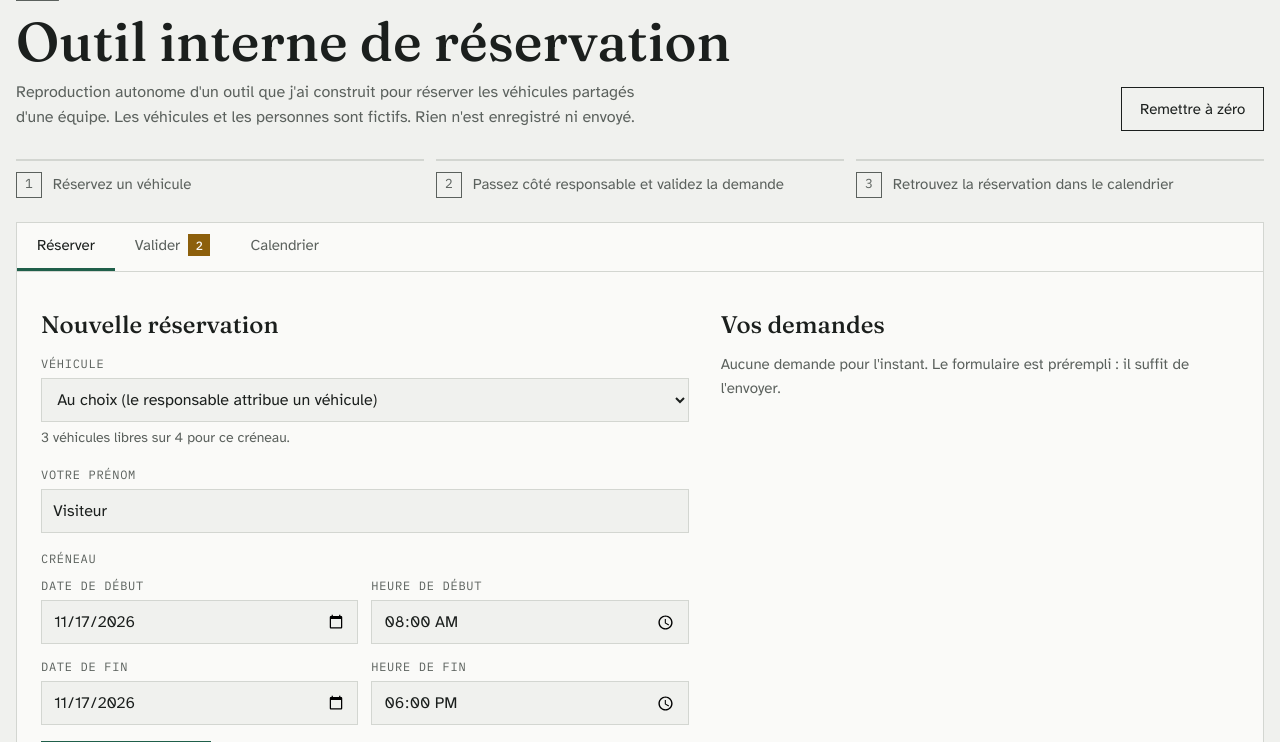
it: démo de réservation › signale une fin de créneau avant le début
Replace the text in the time field labelled "Heure de fin" with "07:00" at (530, 703), box top-left (371, 681), bottom-right (689, 725)
(page scrolled)
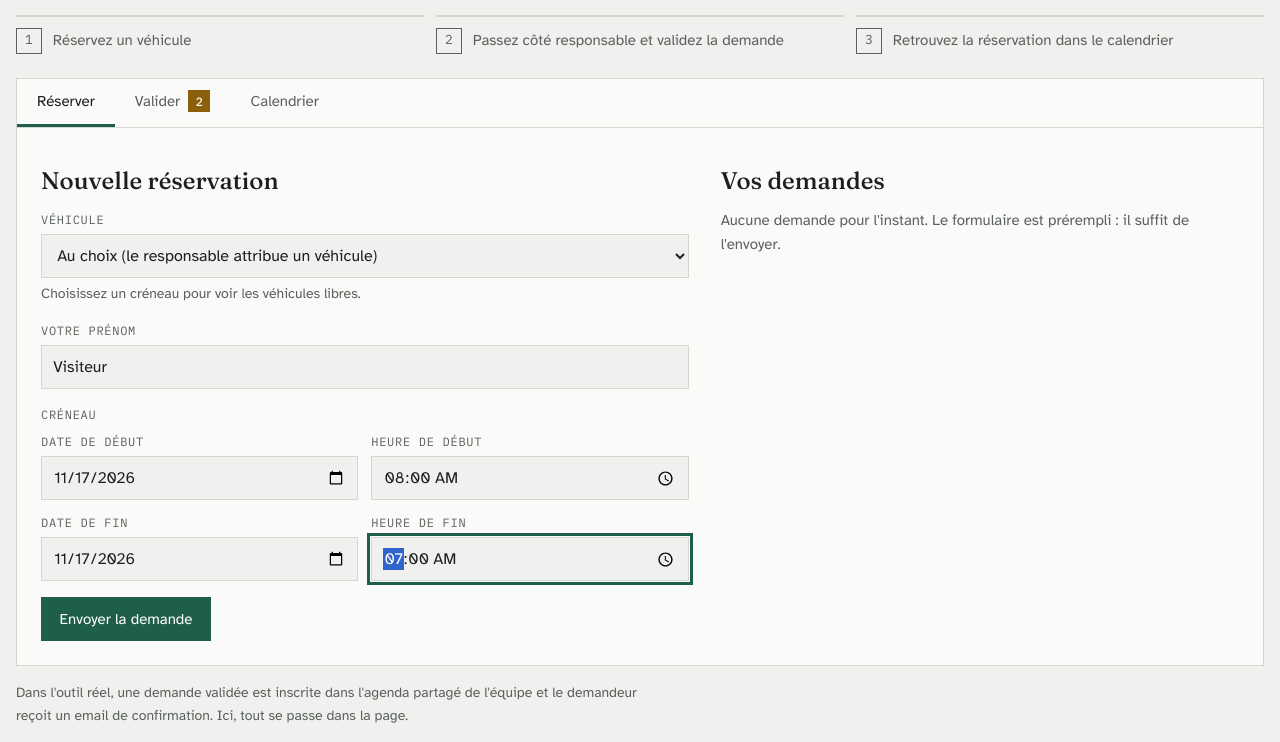
Click the button "Envoyer la demande" at (126, 619), box top-left (41, 597), bottom-right (211, 641)
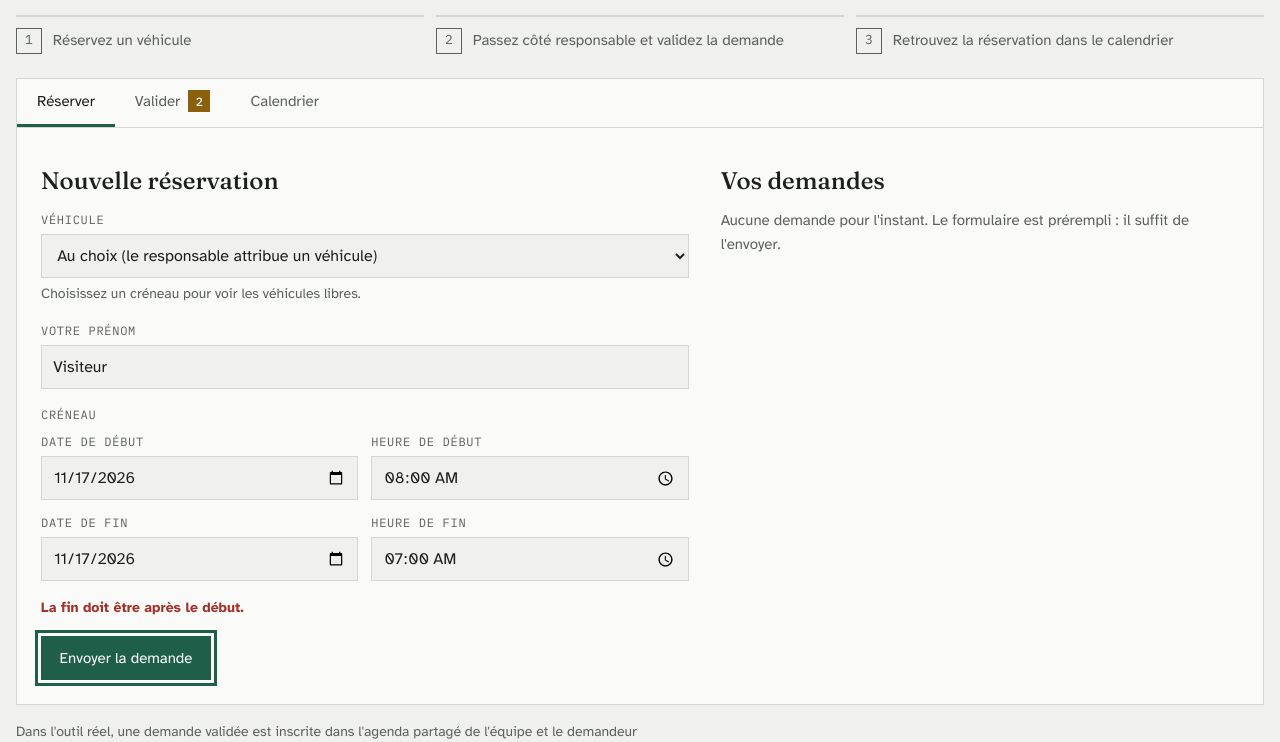
Expected: the message "La fin doit être après le début." is shown, top-left (41, 597), bottom-right (244, 620)
